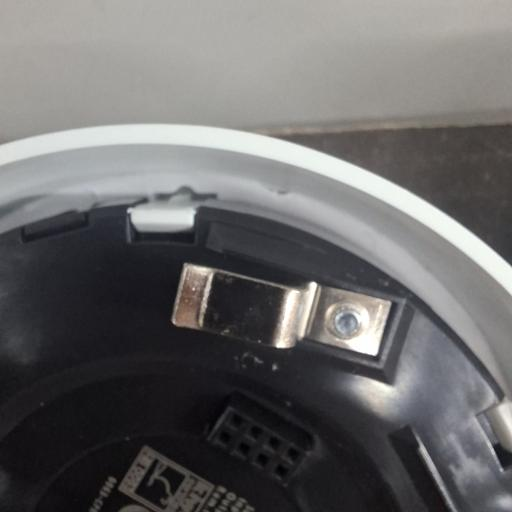yaysiz: (170, 260, 398, 359)
